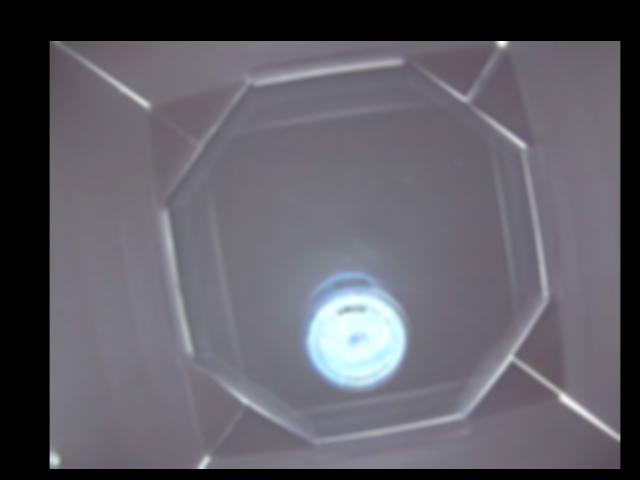Bottle: (304, 272, 409, 392)
